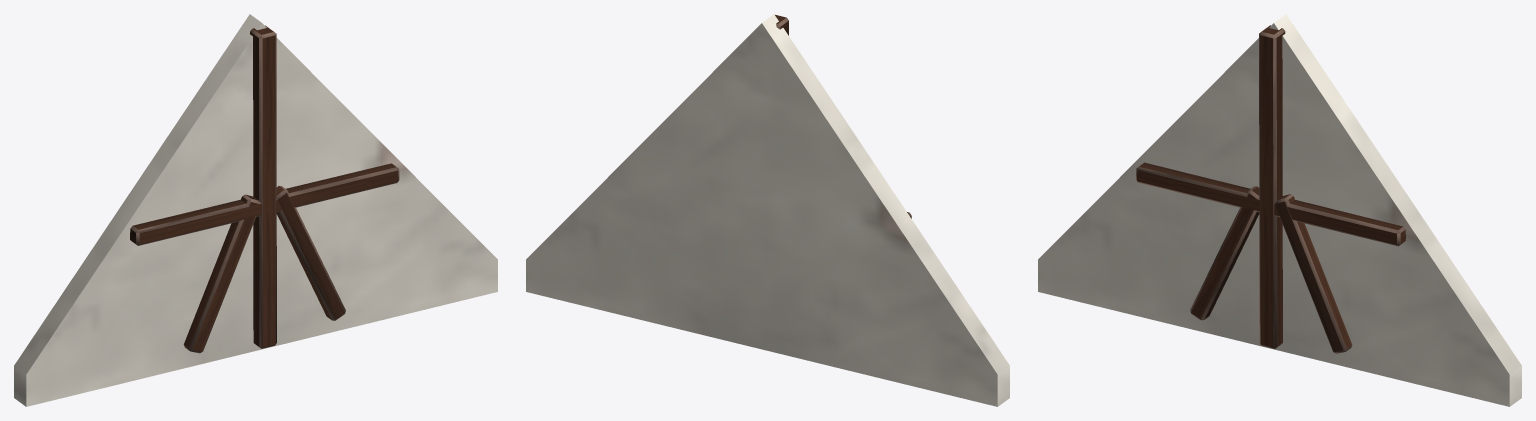
The model's file is SM_Mod_Gable_Plaster_4m.obj.
3 views of the same model, side by side, from view 1: azimuth 30°, elevation 25°; view 2: azimuth 150°, elevation 25°; view 3: azimuth 330°, elevation 25° (orthographic).
Parts seen in each view (by area): view 1: SM_Mod_Gable_Plaster_4m; view 2: SM_Mod_Gable_Plaster_4m; view 3: SM_Mod_Gable_Plaster_4m.
Part boxes in pixels (box(x1,y1,x2,y2)): SM_Mod_Gable_Plaster_4m: box(14, 14, 497, 406); SM_Mod_Gable_Plaster_4m: box(526, 14, 1009, 406); SM_Mod_Gable_Plaster_4m: box(1038, 14, 1521, 406).
Bounding box in the file's own units: 4 × 2.65 × 0.2855.
Materials: 1 (1 with a texture image).
